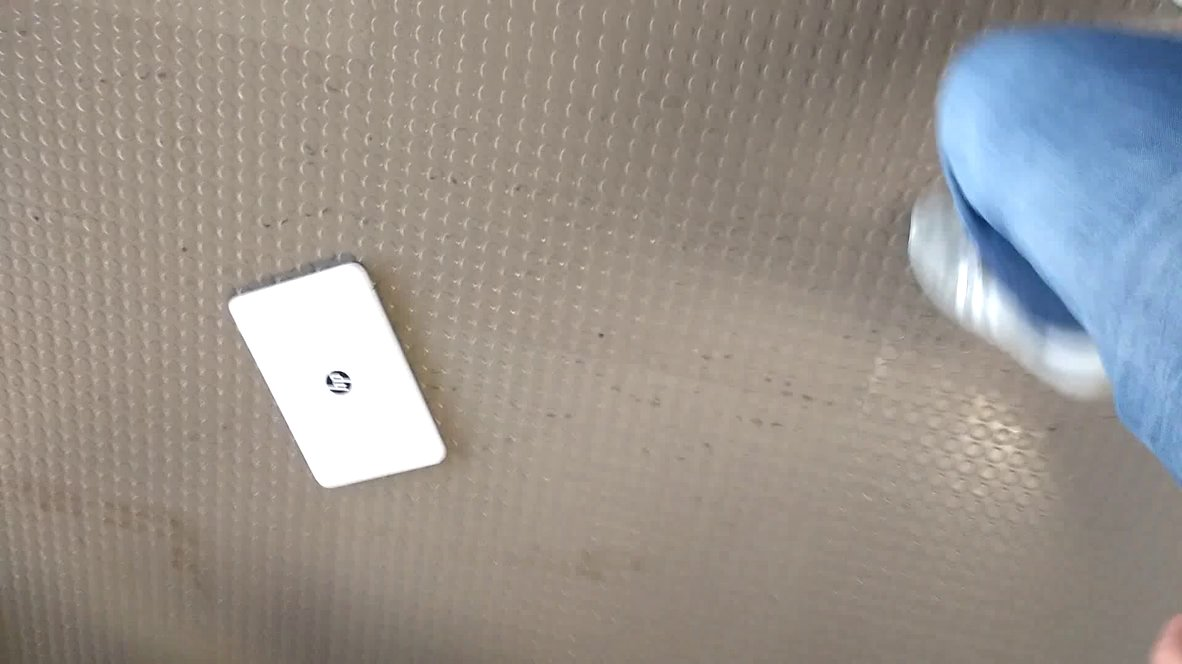laptop: (219, 254, 461, 492)
